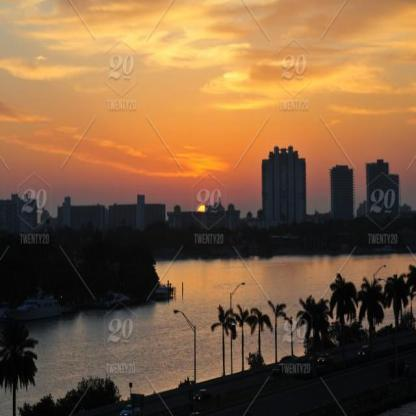other: (27, 8, 242, 66), (219, 70, 378, 99), (182, 153, 231, 174), (196, 200, 205, 214)
